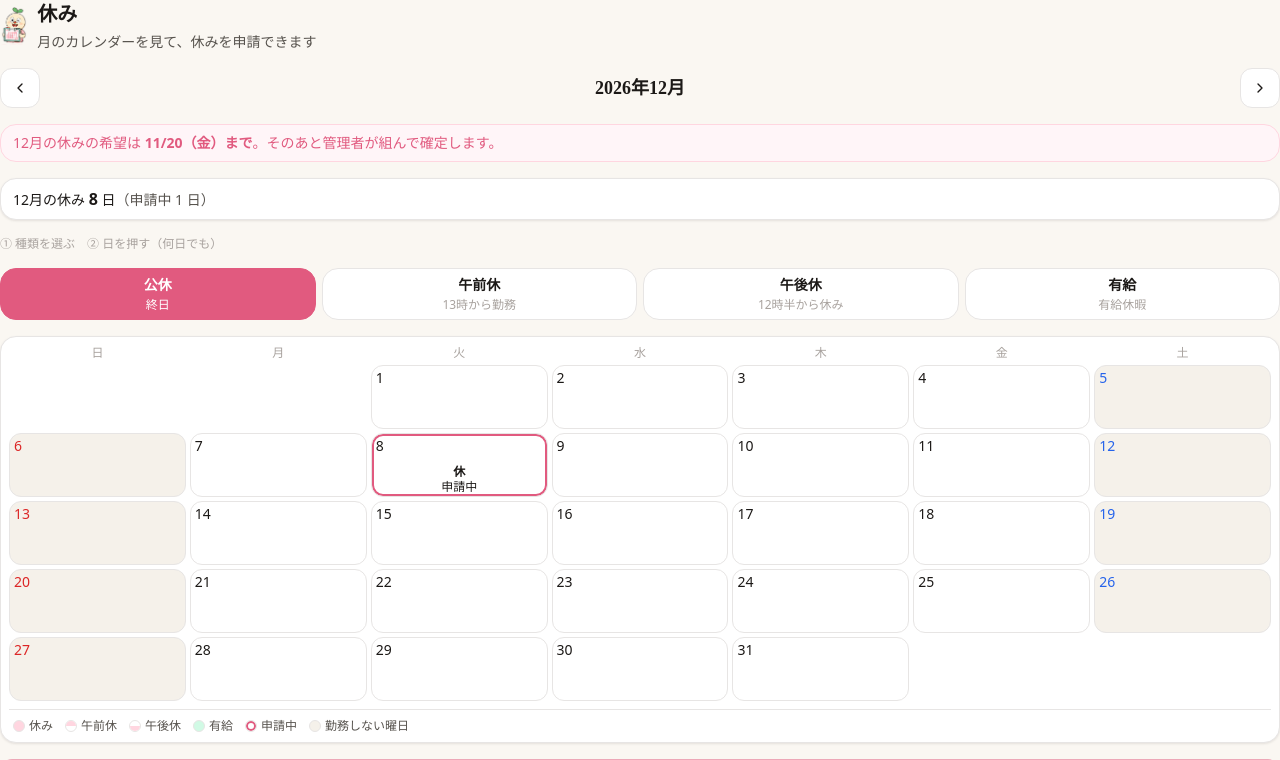
Test case: MobileLeavePage — 申請中・承認済み・結果 › 取り下げに失敗しても小窓を閉じ、一覧を読み直す
Click the button "8 休 申請中" at (459, 465), box [371,433,548,497]
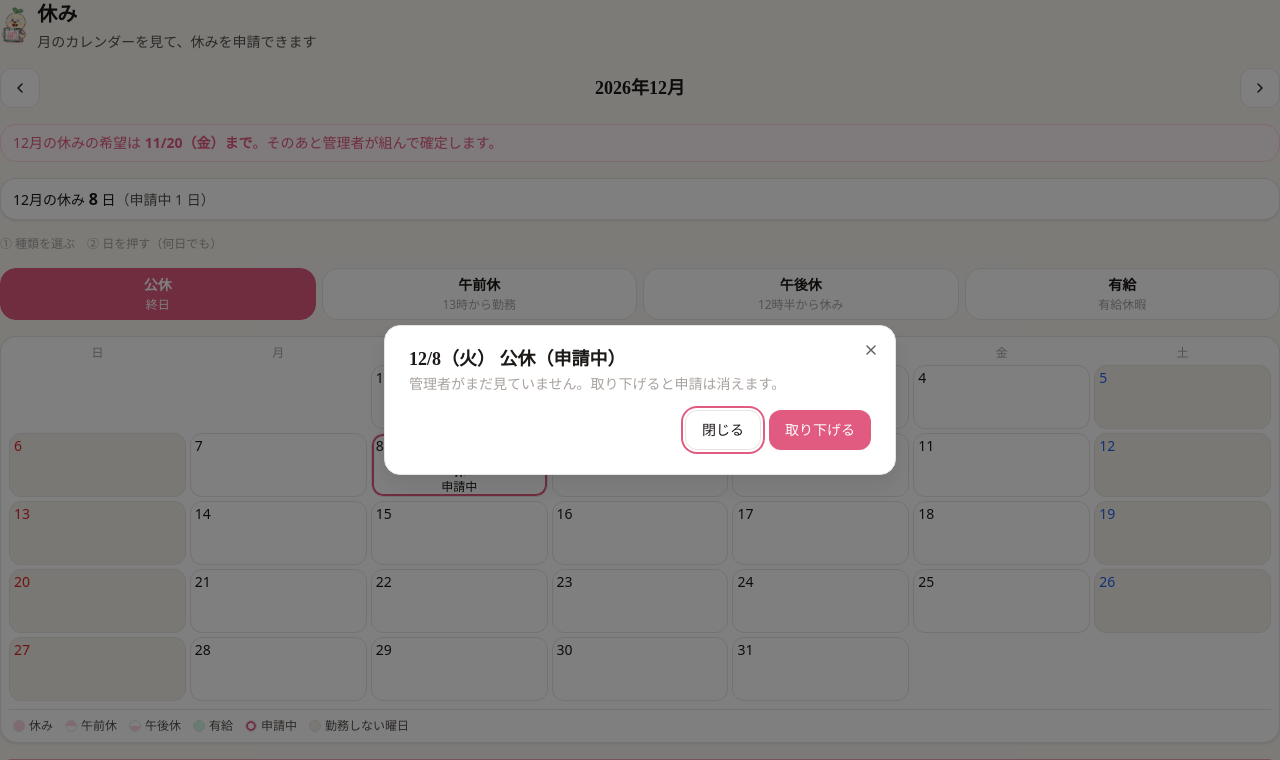
Click the button "取り下げる" at (820, 430), box [769,410,871,450]
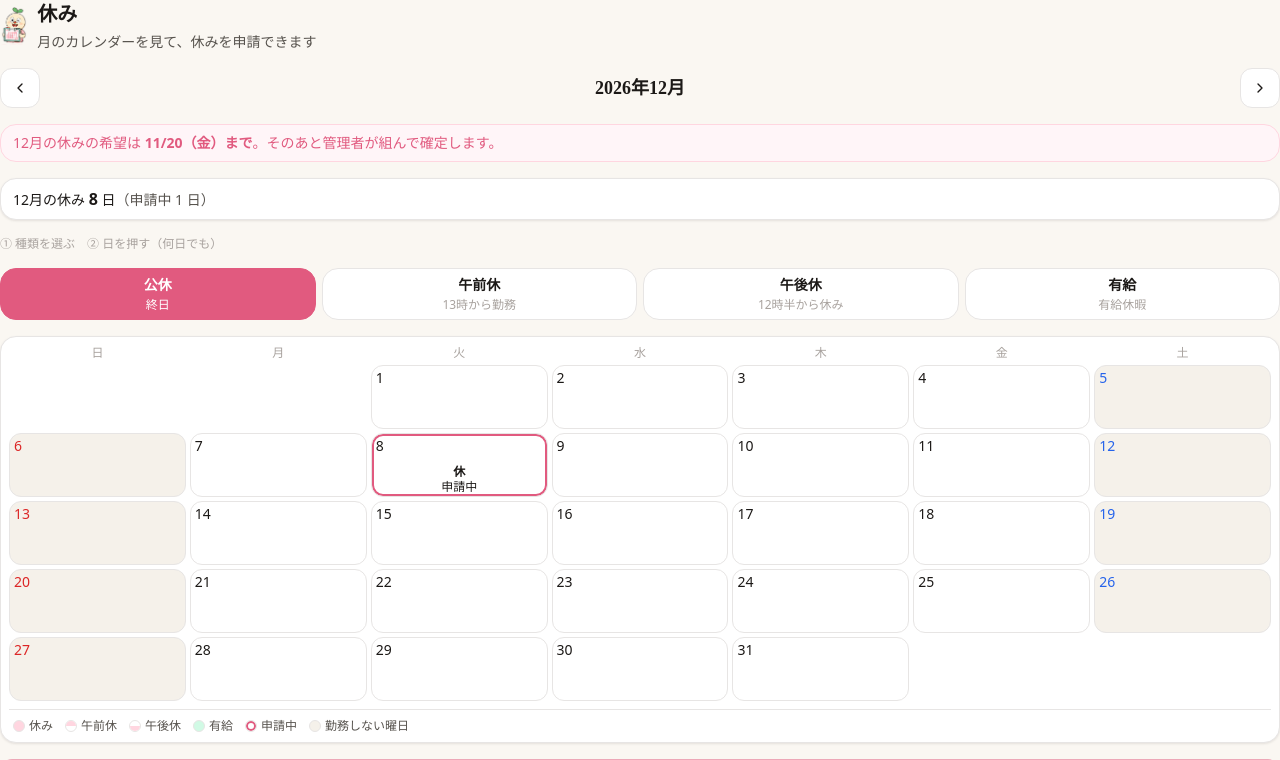
Now the dialog is gone
